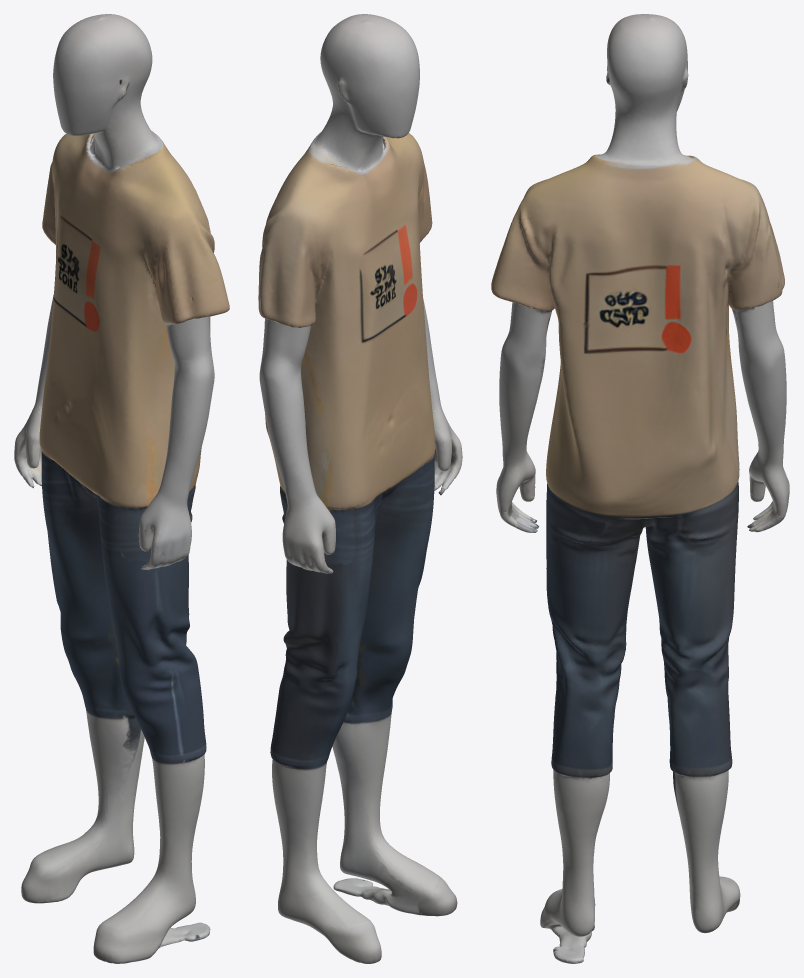
File: test-avatar+prenda.glb
3 renders of one model, left to right at view 1: azimuth 30°, elevation 25°; view 2: azimuth 150°, elevation 25°; view 3: azimuth 270°, elevation 25°, orthographic.
Visible parts, largest first — view 1: tripo_node_035cb8a8-085b-488d-ad2b-4aa7fae6082b; view 2: tripo_node_035cb8a8-085b-488d-ad2b-4aa7fae6082b; view 3: tripo_node_035cb8a8-085b-488d-ad2b-4aa7fae6082b.
Part boxes in pixels (left/top/right/bottom): tripo_node_035cb8a8-085b-488d-ad2b-4aa7fae6082b: left=14, top=14, right=229, bottom=963; tripo_node_035cb8a8-085b-488d-ad2b-4aa7fae6082b: left=258, top=14, right=462, bottom=963; tripo_node_035cb8a8-085b-488d-ad2b-4aa7fae6082b: left=491, top=14, right=789, bottom=963.
Size of the model in its own units: 0.1448 by 1 by 0.2964.
Materials: 1 (1 with a texture image).
